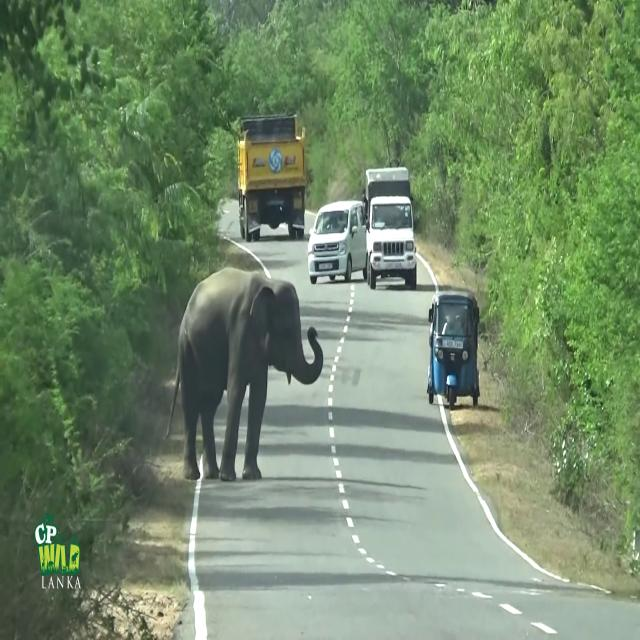Elephant: (165, 266, 324, 481)
